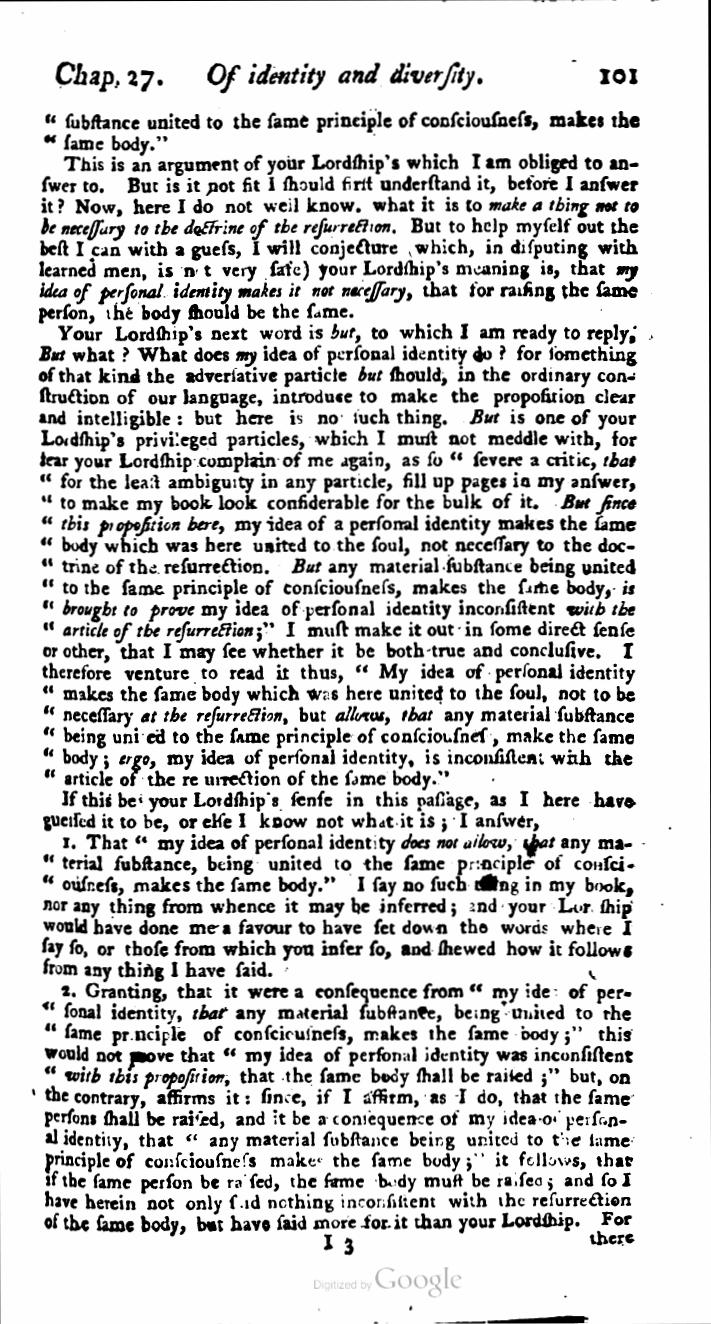bottom_p: (42, 110, 643, 153)
catchword: (587, 1227, 637, 1248)
full_p: (37, 325, 638, 787), (37, 155, 640, 323), (42, 832, 638, 982), (38, 787, 637, 833)
header: (52, 60, 487, 93)
page_num: (598, 63, 642, 85)
signature: (320, 1232, 357, 1258)
top_p: (42, 982, 635, 1233)
